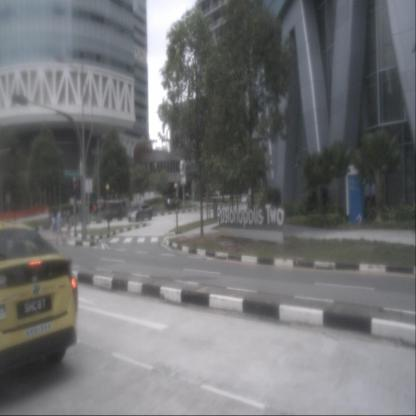human-pedestrian-adult: (55, 209, 66, 244), (64, 207, 72, 243), (364, 180, 371, 212), (51, 213, 58, 244), (371, 180, 377, 212), (167, 197, 171, 212)
vehicle-car: (0, 219, 78, 381), (127, 203, 153, 223)
vehicle-truck: (100, 199, 129, 222)
